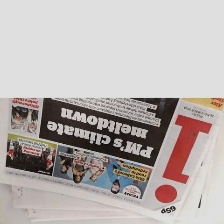news_paper: (0, 98, 222, 223)
